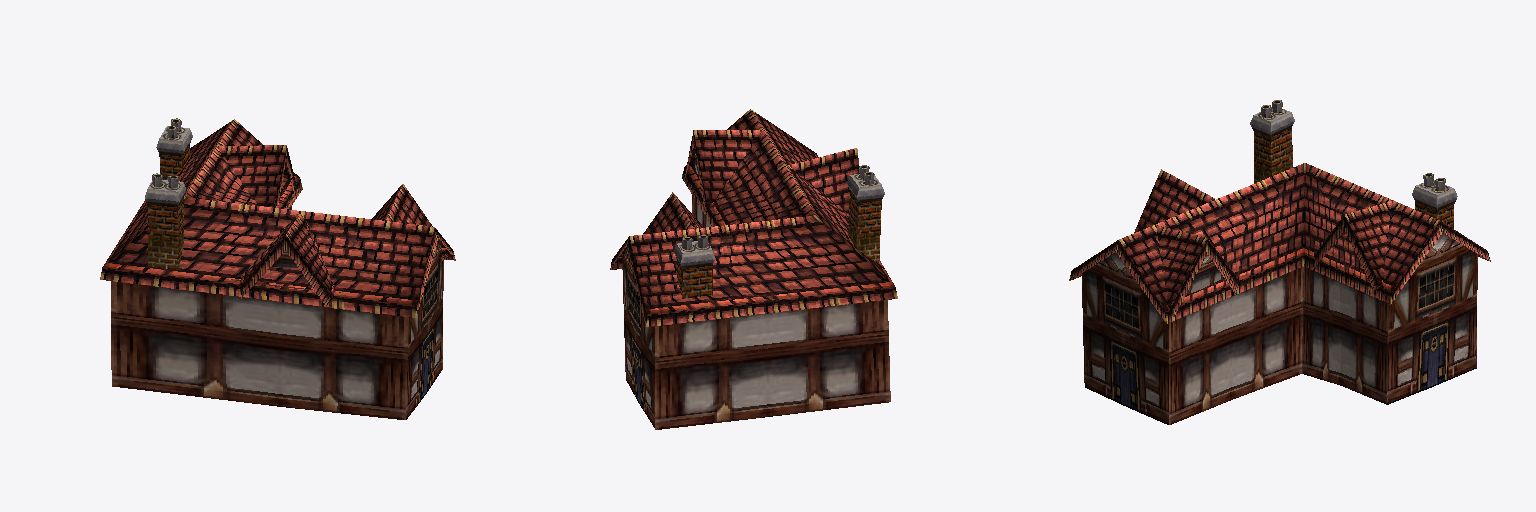
3 views of the same model, side by side, from view 1: azimuth 30°, elevation 25°; view 2: azimuth 150°, elevation 25°; view 3: azimuth 270°, elevation 25° (orthographic).
Parts seen in each view (by area): view 1: Converted_object_1(m0); view 2: Converted_object_1(m0); view 3: Converted_object_1(m0).
Boxes of the visible parts, x1=… form: Converted_object_1(m0): x1=100, y1=118, x2=455, y2=419; Converted_object_1(m0): x1=610, y1=109, x2=897, y2=429; Converted_object_1(m0): x1=1069, y1=100, x2=1490, y2=424.
Size of the model in its own units: 14.47 by 10.22 by 18.48.
Materials: 1 (1 with a texture image).